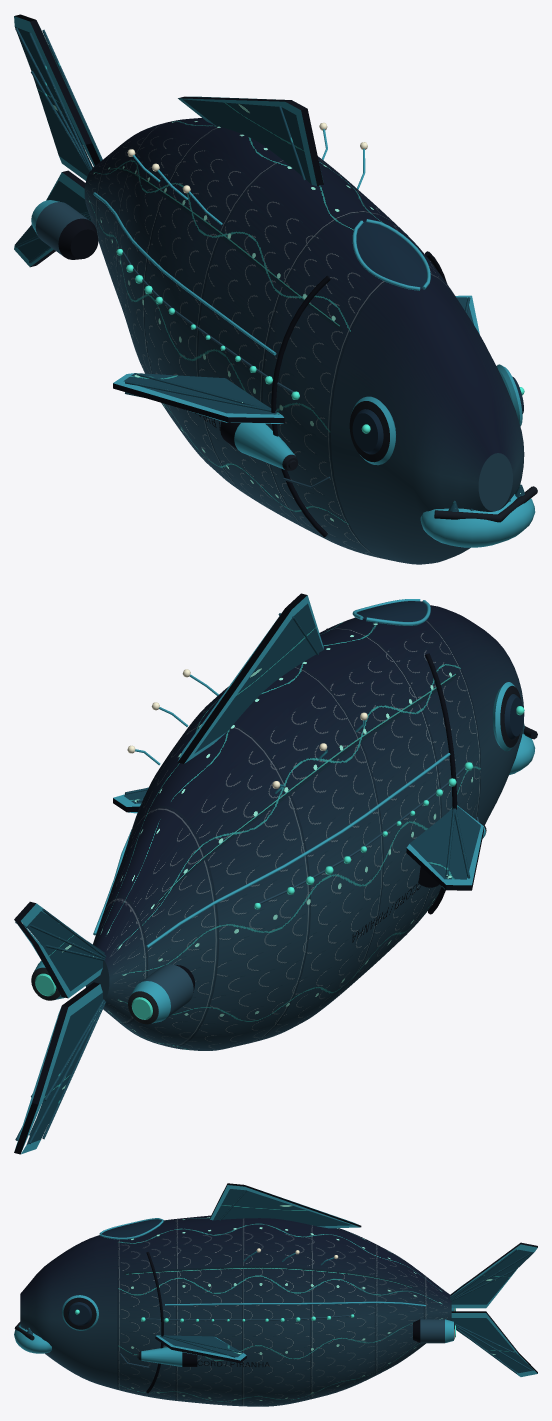
3 views of the same model, one above another, from view 1: azimuth 30°, elevation 25°; view 2: azimuth 150°, elevation 25°; view 3: azimuth 270°, elevation 25° (orthographic). The views are drawn at different scales.
Parts seen in each view (by area): view 1: piranha_hull; view 2: piranha_hull; view 3: piranha_hull.
Boxes of the visible parts, x1,y1,x2,y2 form: piranha_hull: [14, 14, 537, 564]; piranha_hull: [14, 593, 537, 1154]; piranha_hull: [14, 1183, 537, 1406].
Bounding box in the file's own units: 6.42 × 6.94 × 15.
1 material, 1 textured.
